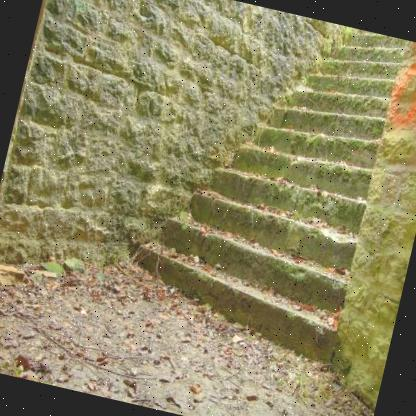stair: (126, 0, 415, 356)
